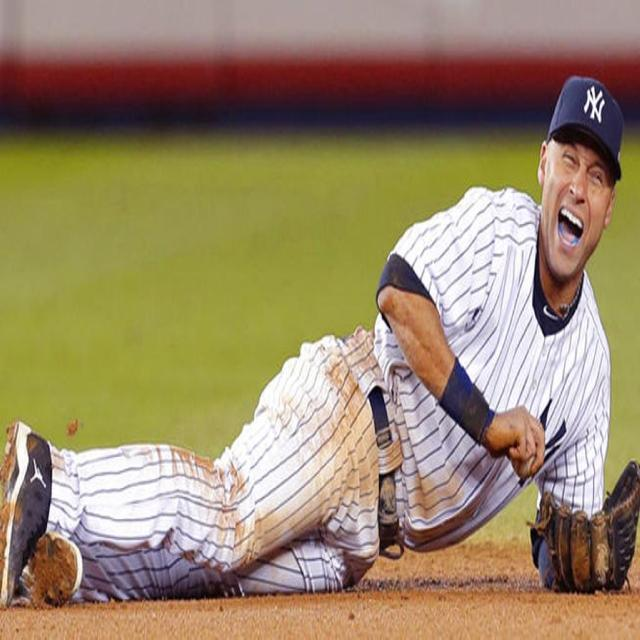Face: (537, 136, 622, 285)
